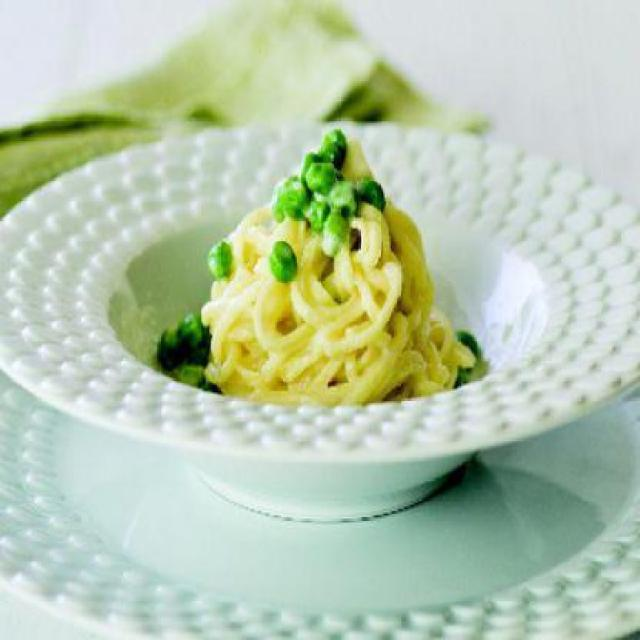Pasta with carbonara sauce: (140, 81, 483, 539)
